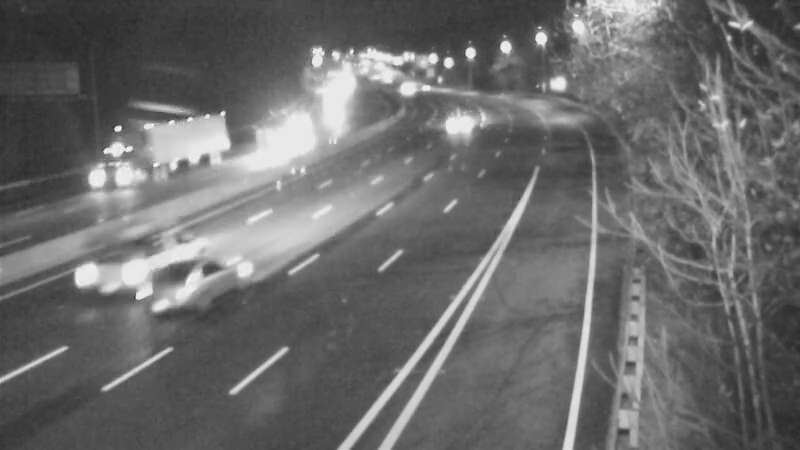vehicle: (75, 230, 155, 310), (140, 240, 220, 320), (77, 137, 157, 217), (380, 65, 430, 115), (437, 95, 487, 145), (244, 124, 294, 174), (274, 99, 324, 149)
